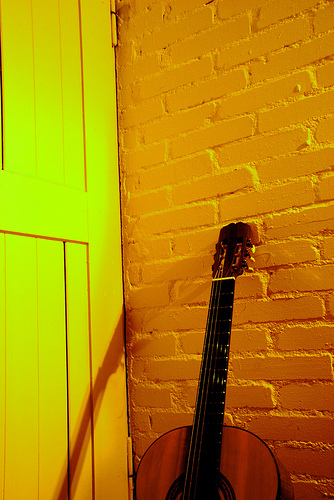guitar: (131, 217, 290, 500)
